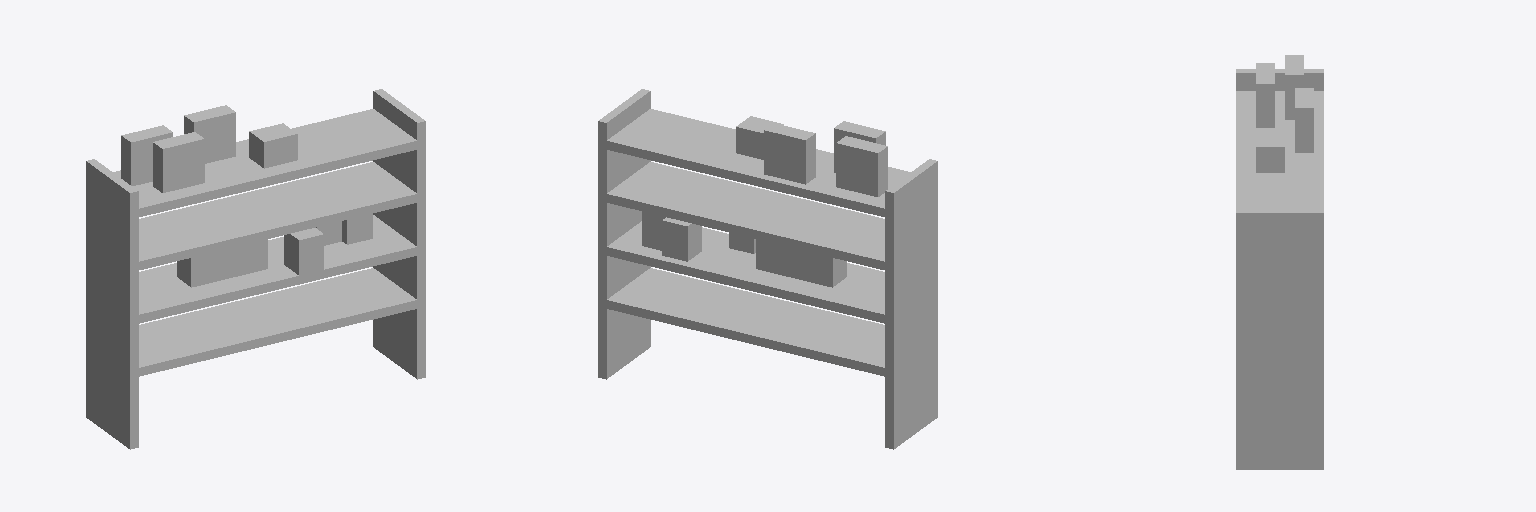
The model's file is BiggerShelfFilled.obj.
3 views of the same model, side by side, from view 1: azimuth 30°, elevation 25°; view 2: azimuth 150°, elevation 25°; view 3: azimuth 270°, elevation 25° (orthographic).
Parts seen in each view (by area): view 1: object 1; view 2: object 1; view 3: object 1.
Part boxes in pixels (left/top/right/bottom): object 1: left=86, top=89, right=425, bottom=449; object 1: left=598, top=89, right=937, bottom=449; object 1: left=1236, top=55, right=1323, bottom=469.
Bounding box in the file's own units: 3.5 × 3.2 × 0.9.